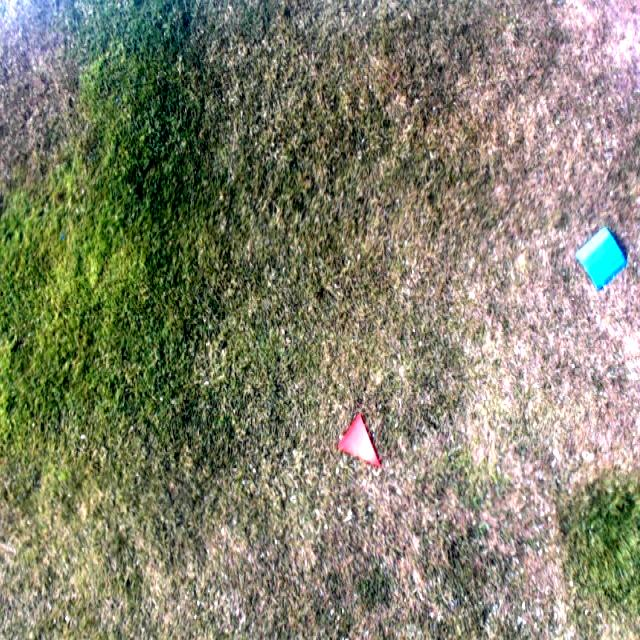blue_square: (576, 227, 626, 290)
red_triangle: (336, 414, 380, 469)
